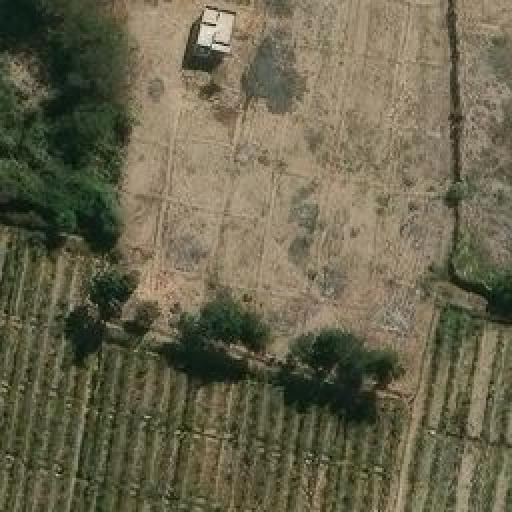manzanas: (185, 11, 233, 68)
